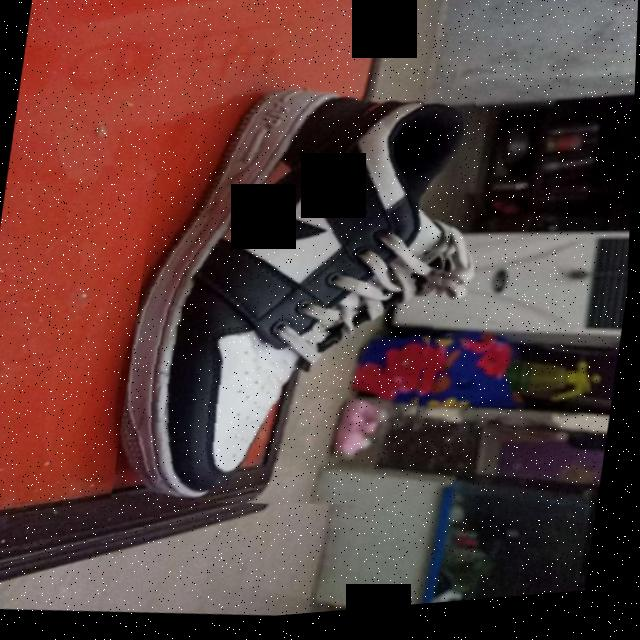shoe: (113, 66, 480, 535)
